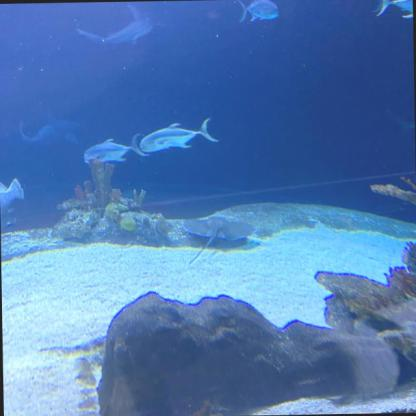fish: (138, 116, 218, 154), (82, 134, 150, 165), (235, 0, 281, 24), (0, 178, 23, 222), (376, 0, 413, 21)
shark: (78, 3, 167, 46), (20, 109, 89, 145)
stingray: (181, 214, 256, 242)
